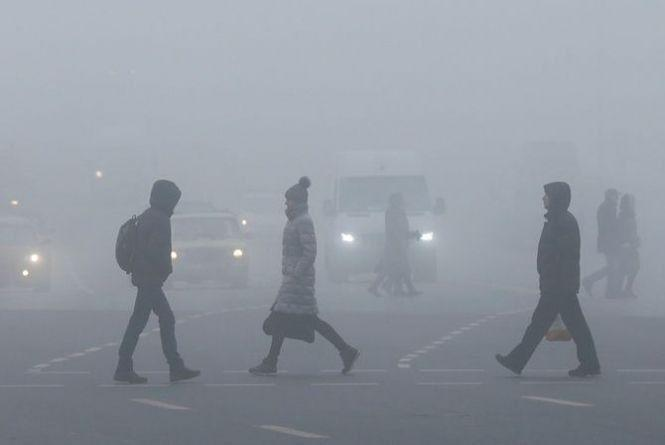Deteksi-Objek-Citra-Berasap: (0, 0, 665, 445)
Kendaraan: (322, 147, 448, 287), (168, 205, 251, 291), (0, 216, 52, 294)
Manusia: (248, 175, 360, 377), (494, 180, 601, 378), (113, 178, 201, 384), (367, 191, 421, 298), (580, 188, 624, 299), (611, 193, 642, 300)
